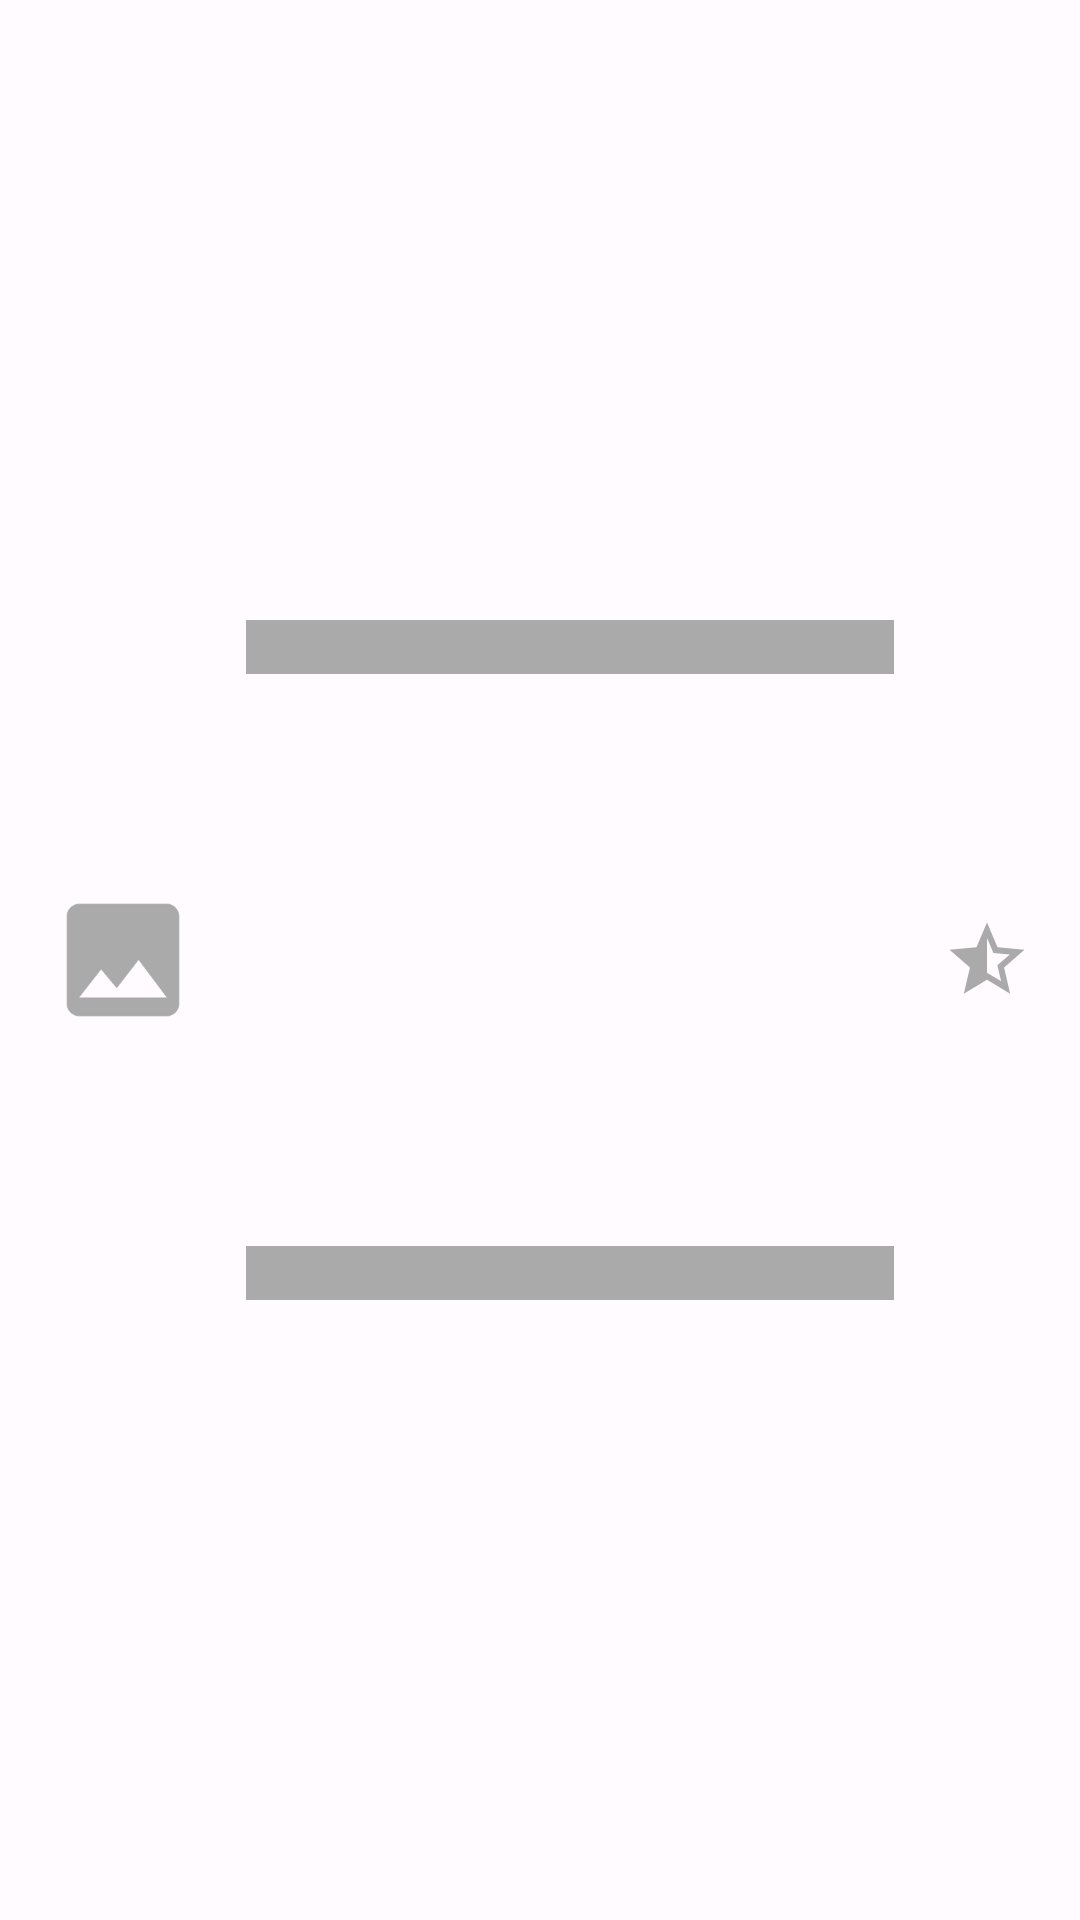

Where to tap for icons on this 1080x1920 app screen, as (x=x, y=y):
star half: (x=987, y=958)
